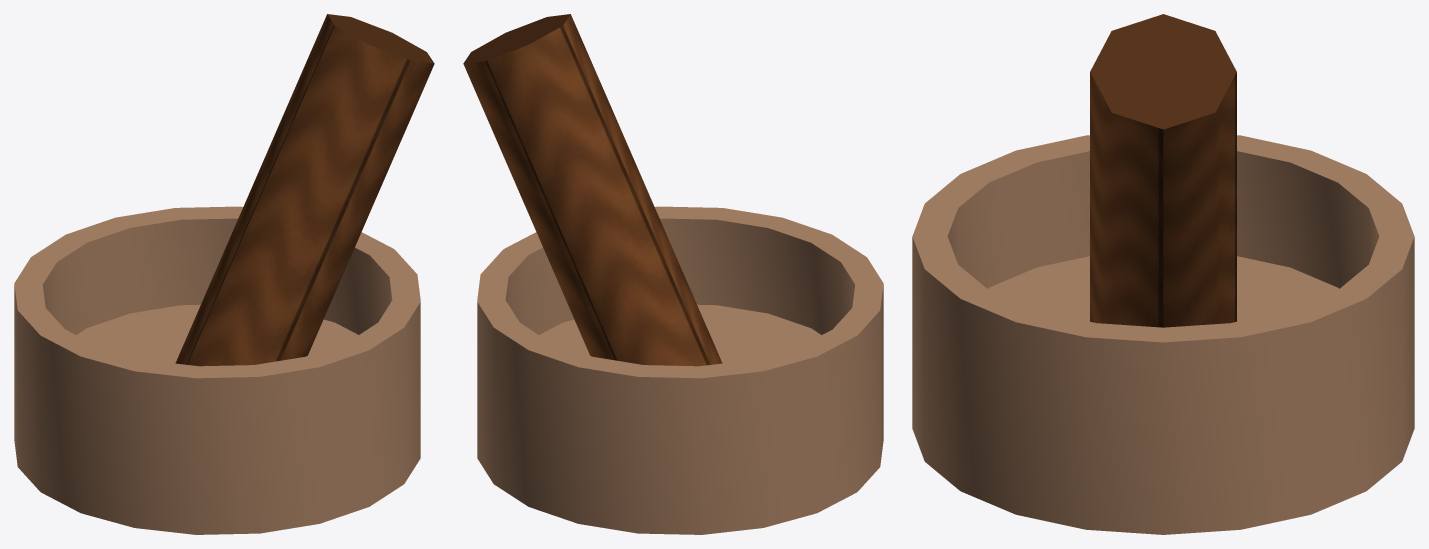
The model's file is survival-food-and-preservation-spice-mortar-7ef3ff41__21768.glb.
3 renders of one model, left to right at view 1: azimuth 30°, elevation 25°; view 2: azimuth 150°, elevation 25°; view 3: azimuth 270°, elevation 25°, orthographic. The views are drawn at different scales.
Parts seen in each view (by area): view 1: spice-mortar; view 2: spice-mortar; view 3: spice-mortar.
Part boxes in pixels (x1=…): spice-mortar: x1=14, y1=14, x2=434, y2=534; spice-mortar: x1=463, y1=14, x2=883, y2=534; spice-mortar: x1=912, y1=14, x2=1414, y2=534.
Size of the model in its own units: 0.1419 by 0.1386 by 0.13.
2 materials, 1 textured.
